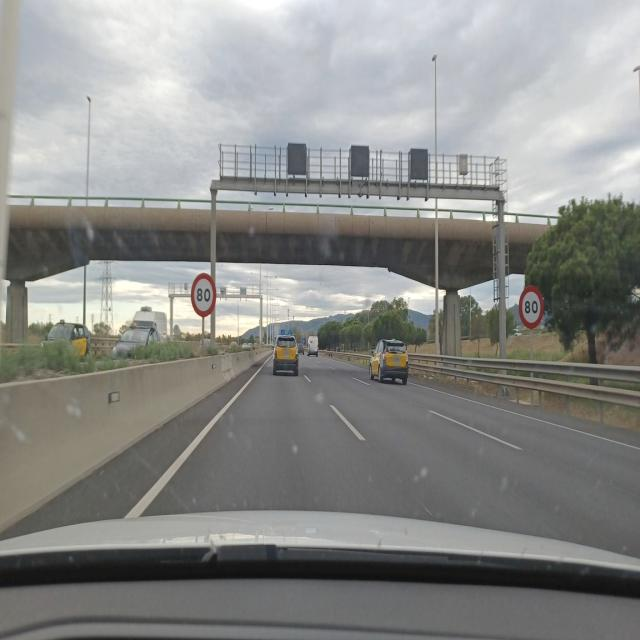car: (369, 338, 409, 384), (112, 326, 161, 360), (42, 322, 90, 351), (272, 333, 299, 376)
